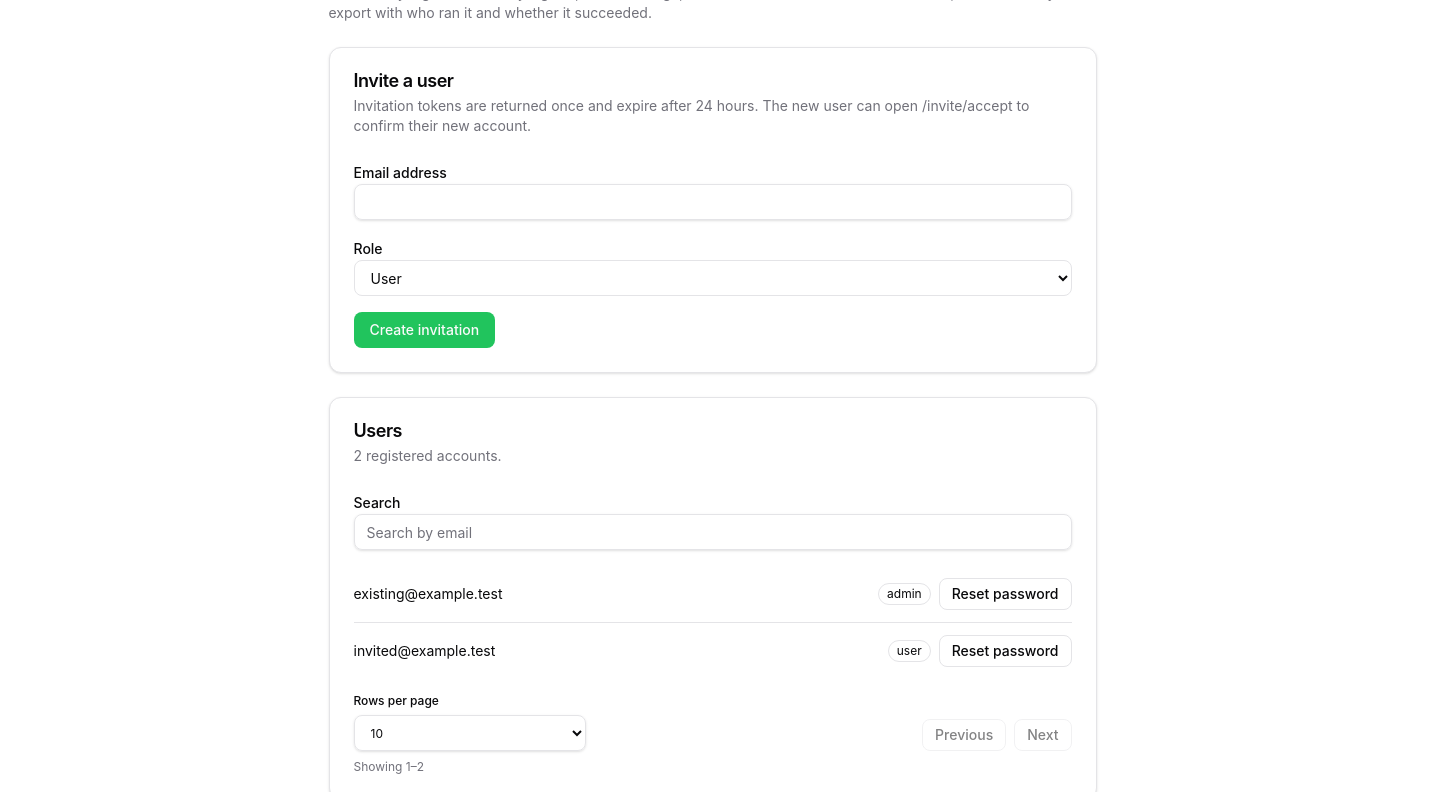
AdminPage › posts the selected user reset and shows its token and encoded link after 201
(page scrolled)
expect the text "invited@example.test" is shown: met, box left=354, top=641, right=495, bottom=661
expect the text "Password reset token — copy and share securely now:" is not shown: met
Click the button "Reset password" in the row of "invited@example.test" at (1005, 651), box left=939, top=635, right=1072, bottom=667
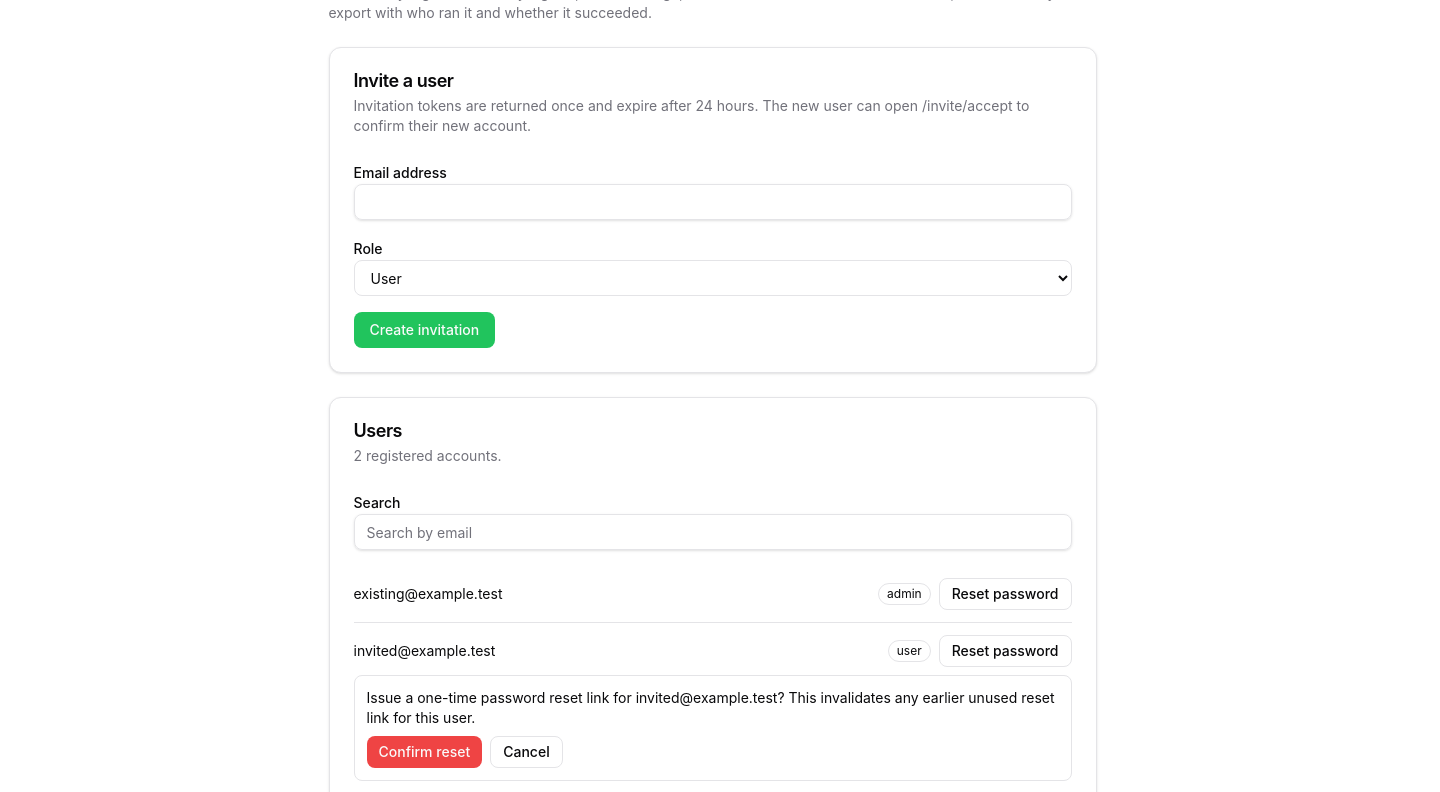
Click the button "Confirm reset" at (424, 752), box left=366, top=736, right=482, bottom=768
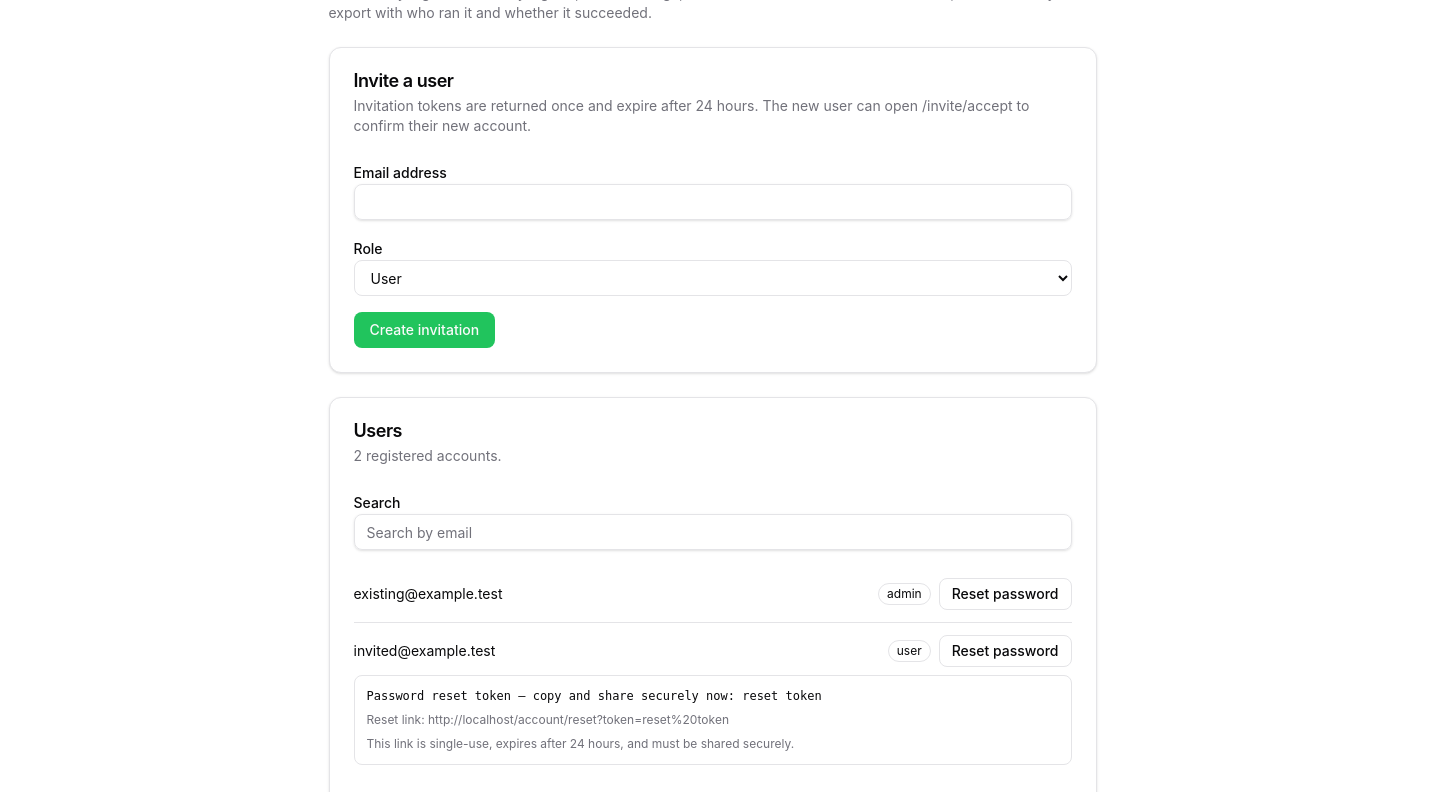
expect the text "Password reset token — copy and share securely now: reset token" is shown: met, box left=366, top=689, right=822, bottom=703
